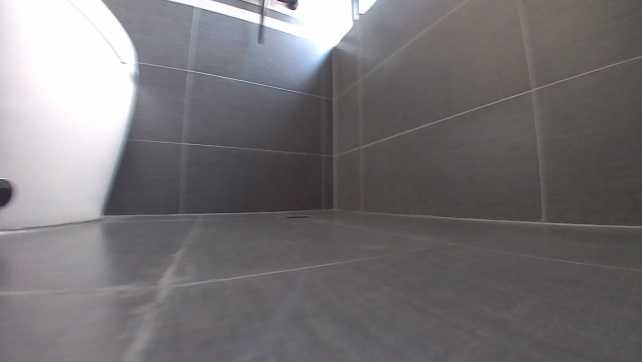toilet: (1, 1, 143, 236)
